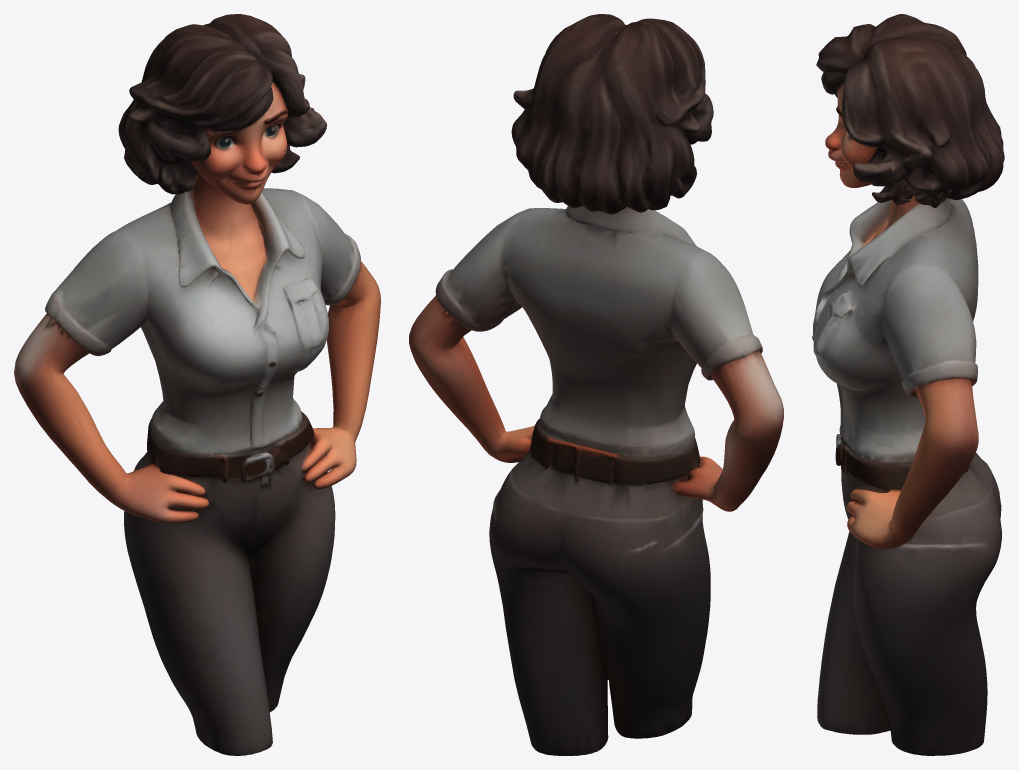
The model's file is clara_cefaleia.glb.
3 renders of one model, left to right at view 1: azimuth 30°, elevation 25°; view 2: azimuth 150°, elevation 25°; view 3: azimuth 270°, elevation 25°, orthographic. The views are drawn at different scales.
Parts seen in each view (by area): view 1: Mesh_0; view 2: Mesh_0; view 3: Mesh_0.
Boxes of the visible parts, <box> form: Mesh_0: <box>14,14,380,755</box>; Mesh_0: <box>409,14,783,755</box>; Mesh_0: <box>812,14,1004,755</box>.
Size of the model in its own units: 0.9321 by 1.72 by 0.4303.
Materials: 1 (1 with a texture image).
